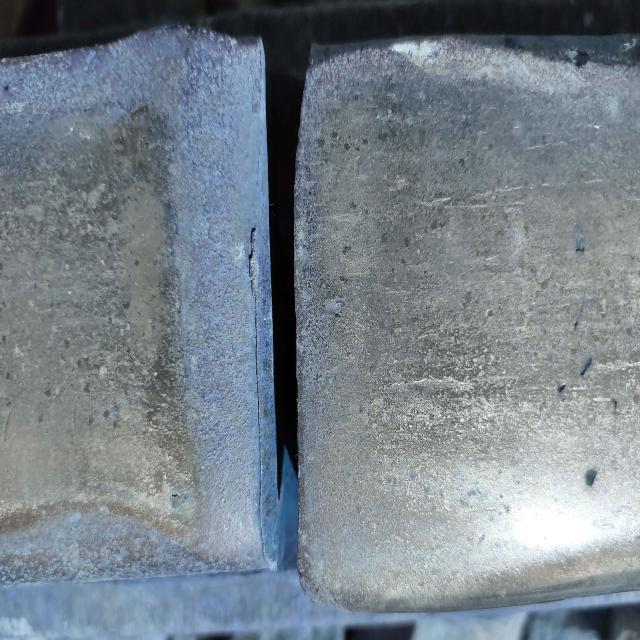broken_rail_low: (178, 32, 406, 562)
